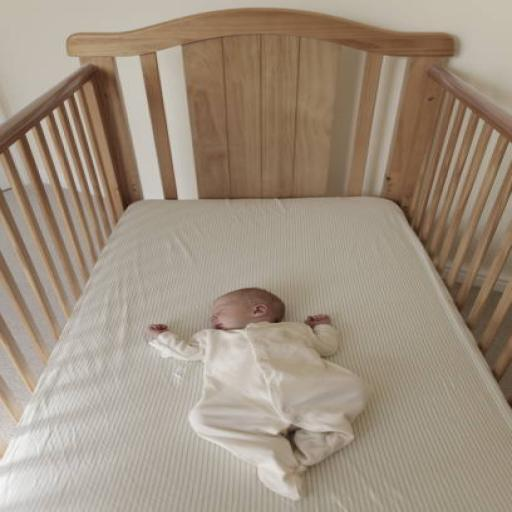baby: (149, 288, 368, 499)
crib: (0, 9, 511, 352)
